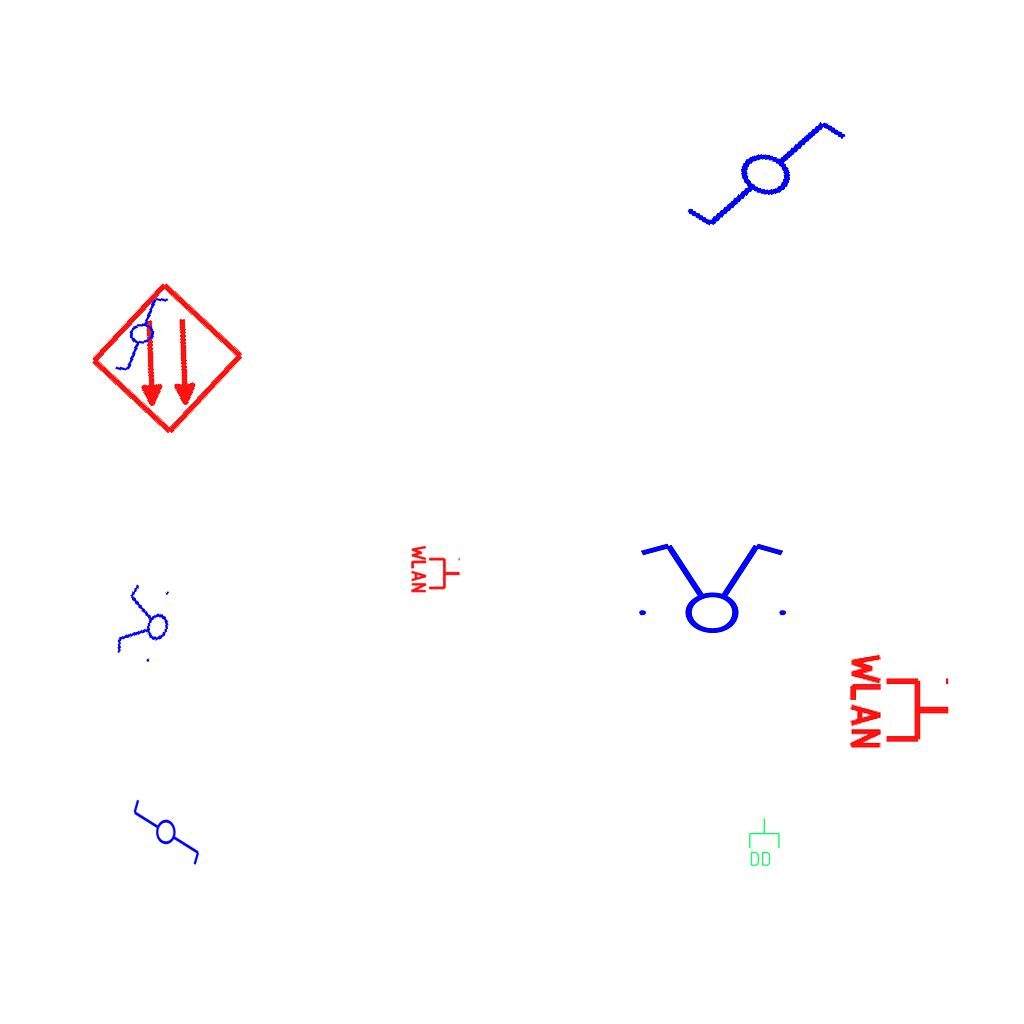Datenanschluss_zweifach: (747, 817, 781, 868)
RMO_Rauchmelder_optischer: (87, 278, 248, 439)
Serienschalter: (627, 539, 795, 635), (110, 577, 180, 671)
WLAN: (848, 649, 953, 753), (410, 543, 462, 595)
Wechselschalter: (663, 79, 854, 261), (100, 291, 192, 377), (131, 789, 203, 867)
